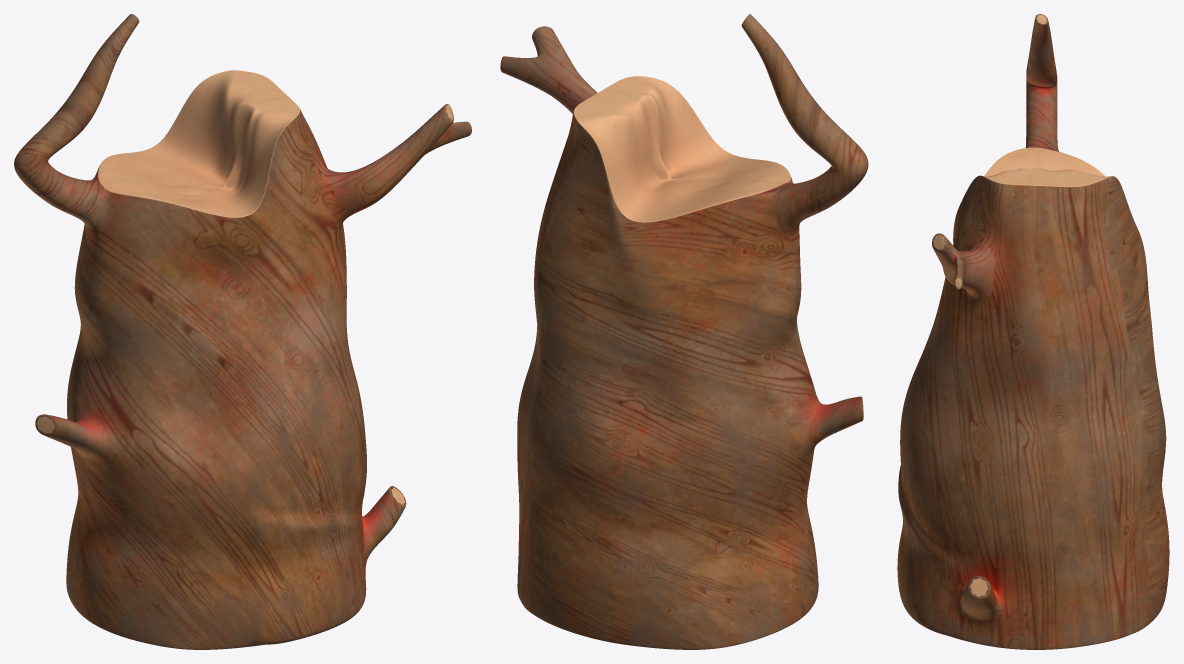
Rendered from Tronco estatua.fbx.
3 renders of one model, left to right at view 1: azimuth 30°, elevation 25°; view 2: azimuth 150°, elevation 25°; view 3: azimuth 270°, elevation 25°, orthographic. The views are drawn at different scales.
Visible parts, largest first — view 1: pCylinder1; view 2: pCylinder1; view 3: pCylinder1.
Boxes of the visible parts, box(x1,y1,x2,y2) form: pCylinder1: box(14, 14, 471, 649); pCylinder1: box(500, 14, 868, 649); pCylinder1: box(897, 14, 1169, 649).
Size of the model in its own units: 7.2 by 9.97 by 4.54.
